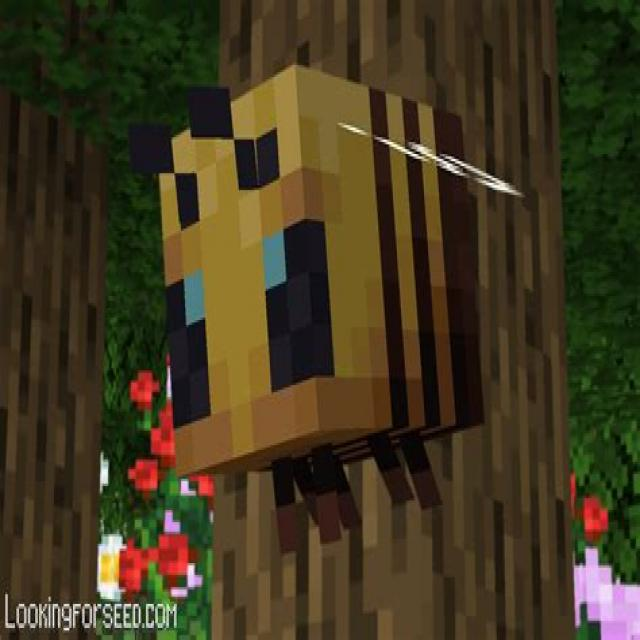Bee: (111, 56, 532, 548)
